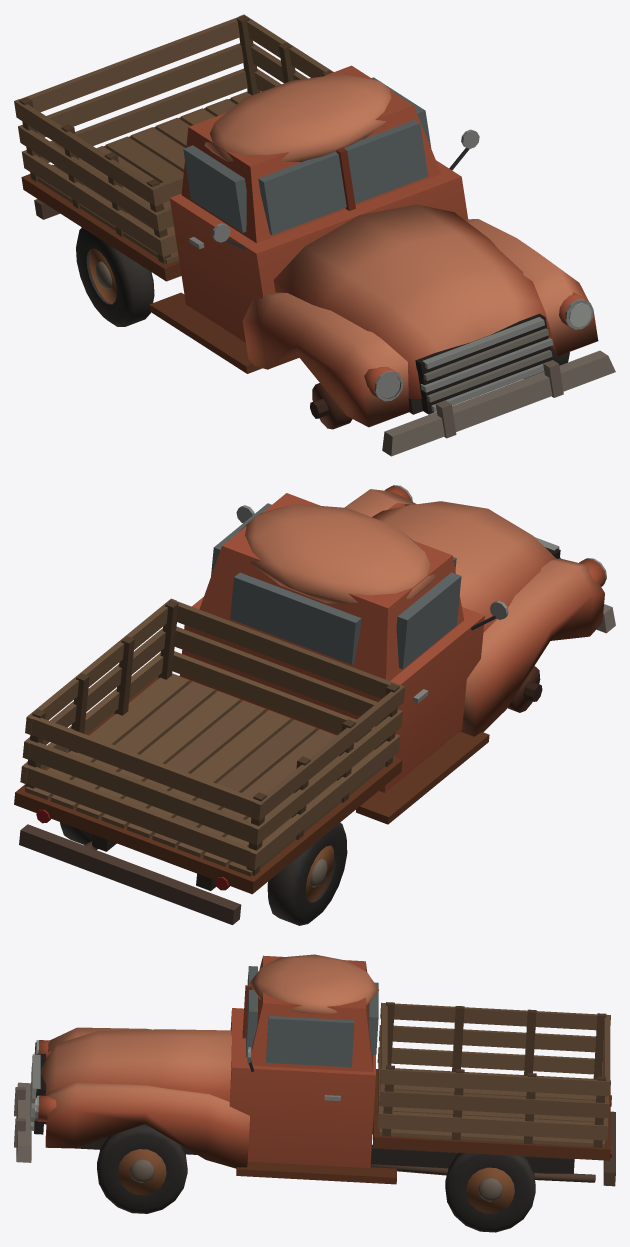
File: pickup.glb
3 renders of one model, top to bottom at view 1: azimuth 30°, elevation 25°; view 2: azimuth 150°, elevation 25°; view 3: azimuth 270°, elevation 25°, orthographic. The views are drawn at different scales.
Parts seen in each view (by area): view 1: pickup; view 2: pickup; view 3: pickup.
Boxes of the visible parts, x1,y1,x2,y2 form: pickup: [14, 14, 615, 456]; pickup: [14, 485, 615, 925]; pickup: [14, 954, 615, 1232].
Bounding box in the file's own units: 2.23 × 2.22 × 5.18.
